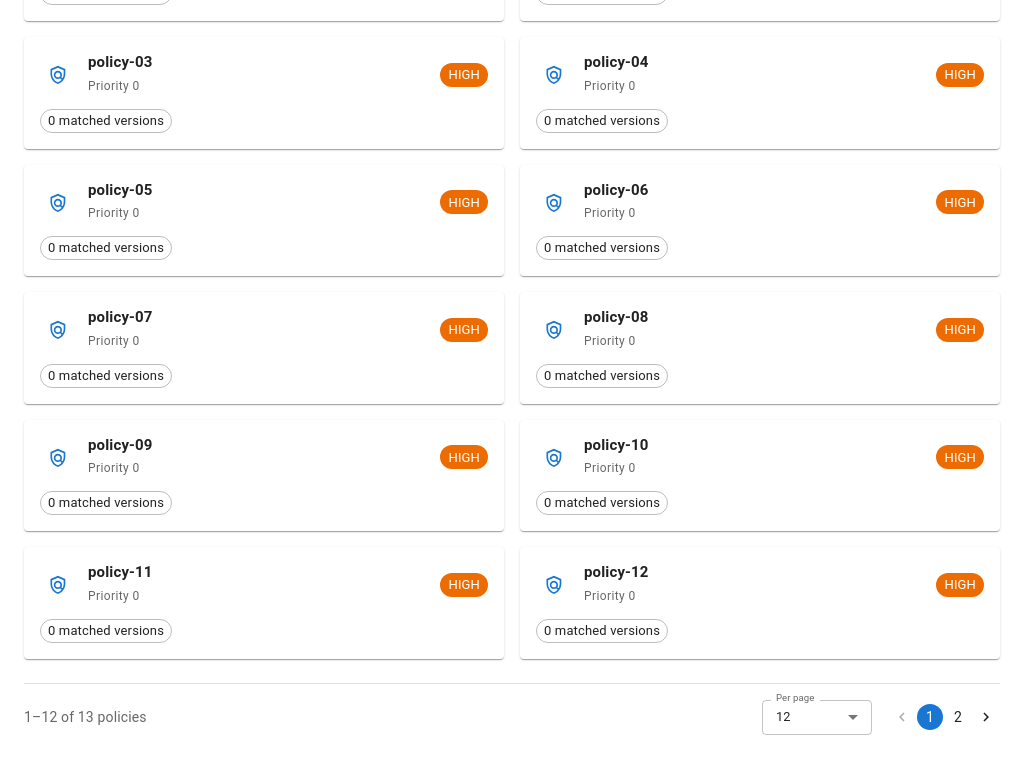
it: SecurityPoliciesSurface › paginates the policy list
(page scrolled)
Check: the text "1–12 of 13 policies" is shown, box [24,707,147,727]
Check: the text "policy-12" is shown, box [584,563,649,581]
Click the button named "Go to page 2": [958, 717] box [945,704,971,730]
(page scrolled)
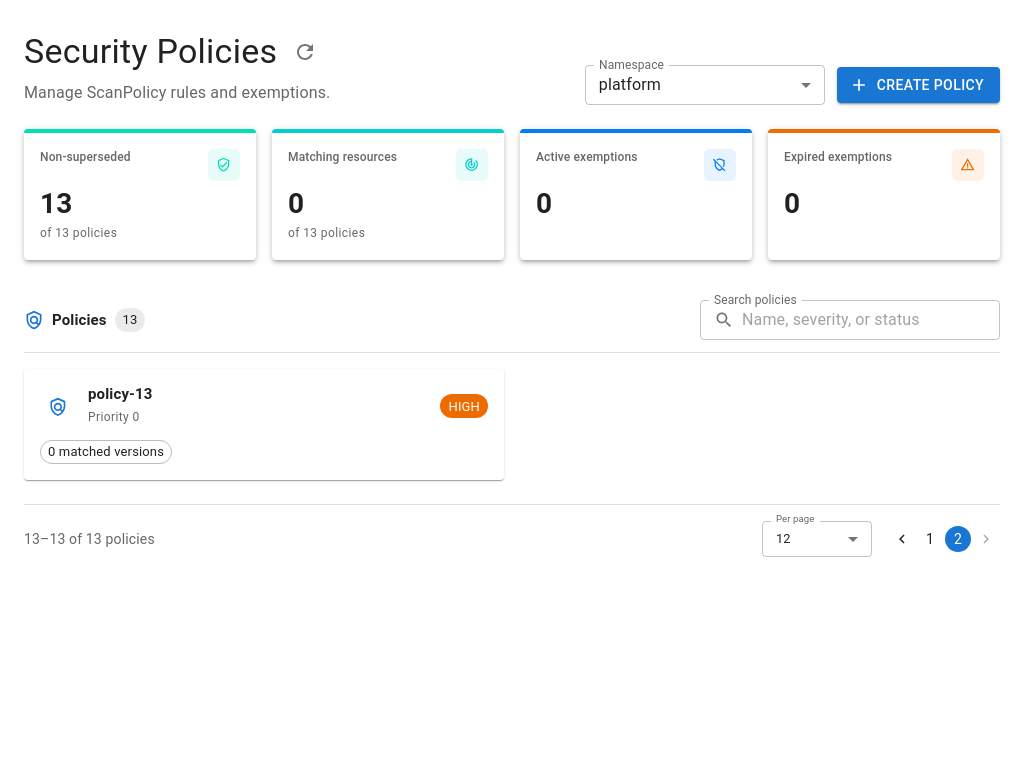
Check: the text "policy-13" is shown, box [88,385,153,403]
Check: the text "13–13 of 13 policies" is shown, box [24,529,155,549]
